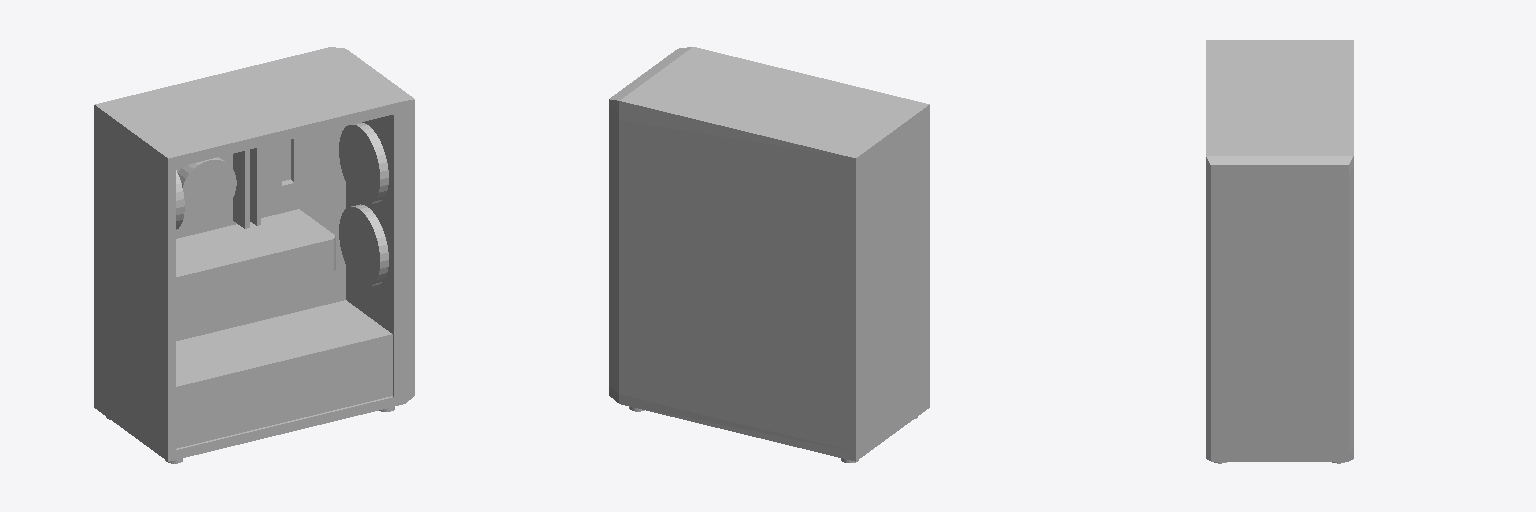
File: desktop_pc.obj
3 renders of one model, left to right at view 1: azimuth 30°, elevation 25°; view 2: azimuth 150°, elevation 25°; view 3: azimuth 270°, elevation 25°, orthographic.
Parts seen in each view (by area): view 1: Plane; view 2: Plane; view 3: Plane.
Part boxes in pixels (x1,y1,x2,y2): Plane: (94,47,414,463); Plane: (609,47,929,462); Plane: (1206,40,1353,463).
Size of the model in its own units: 2.92 by 3.46 by 1.5.